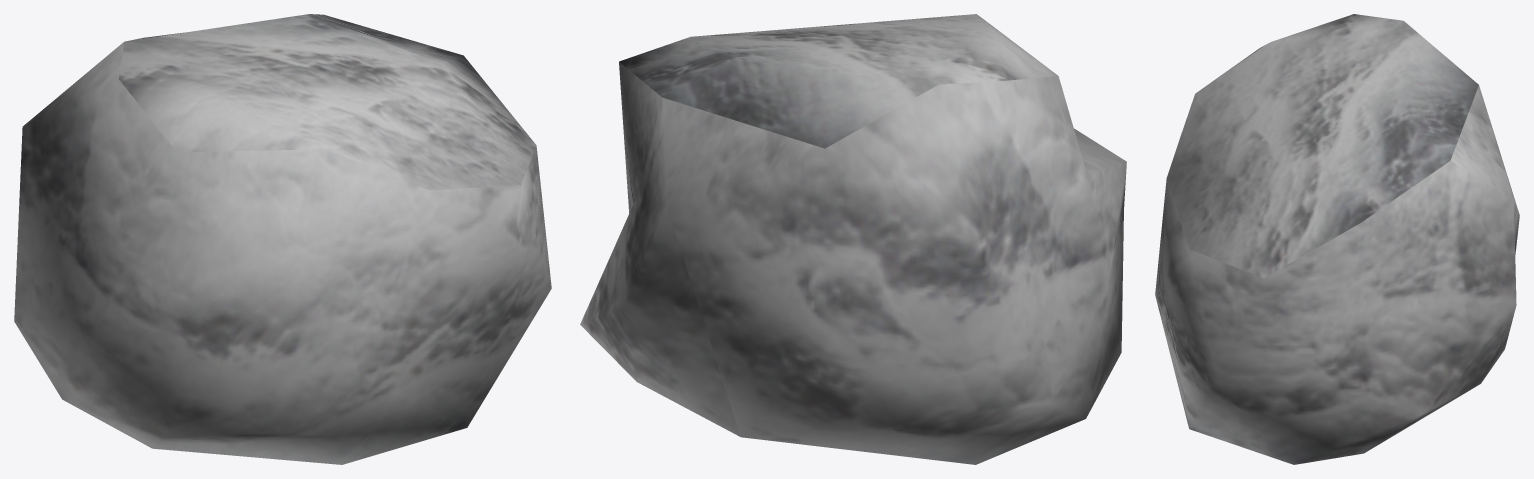
Rendered from snow_d_a07d.fbx.
3 views of the same model, side by side, from view 1: azimuth 30°, elevation 25°; view 2: azimuth 150°, elevation 25°; view 3: azimuth 270°, elevation 25° (orthographic). The views are drawn at different scales.
Visible parts, largest first — view 1: d_a07d; view 2: d_a07d; view 3: d_a07d.
Boxes of the visible parts, x1,y1,x2,y2 form: d_a07d: (14,14,551,464); d_a07d: (580,14,1126,464); d_a07d: (1155,14,1519,464).
Size of the model in its own units: 166 by 132 by 135.
